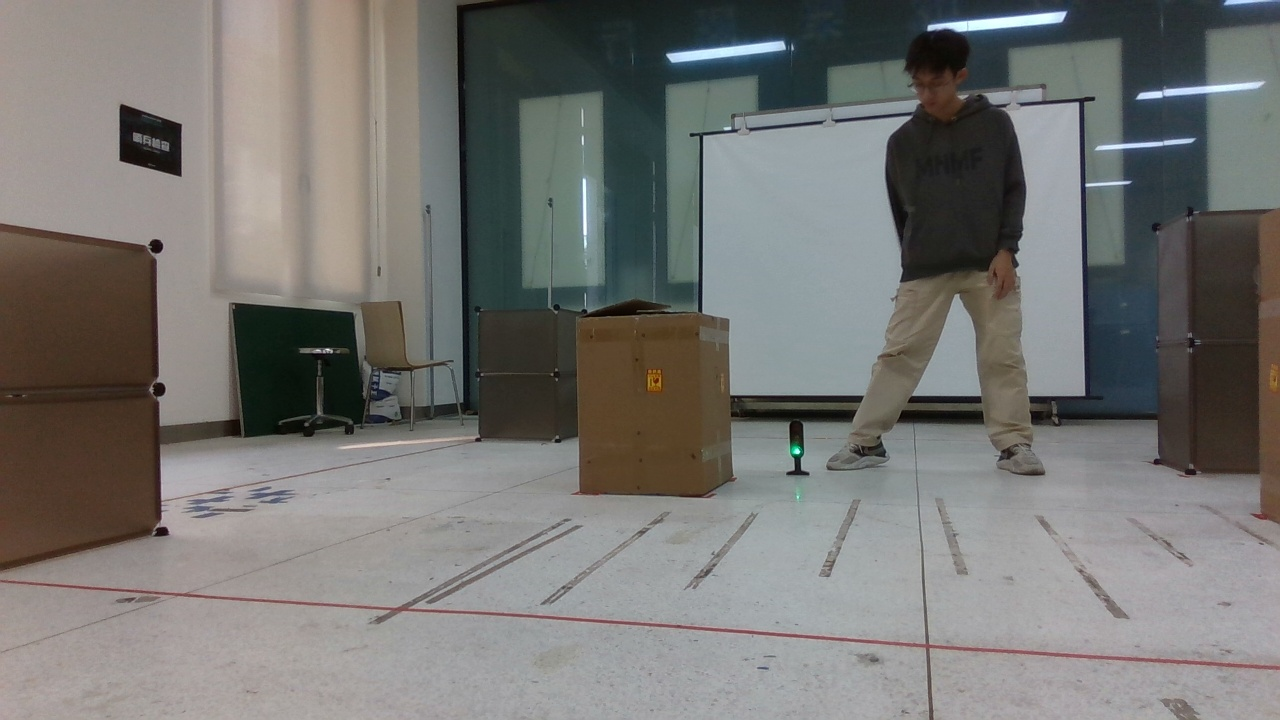green_light: (784, 415, 816, 477)
